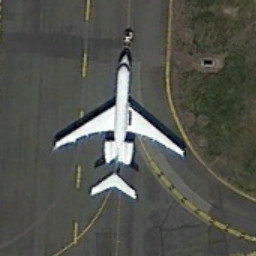Airplane: (46, 48, 194, 207)
